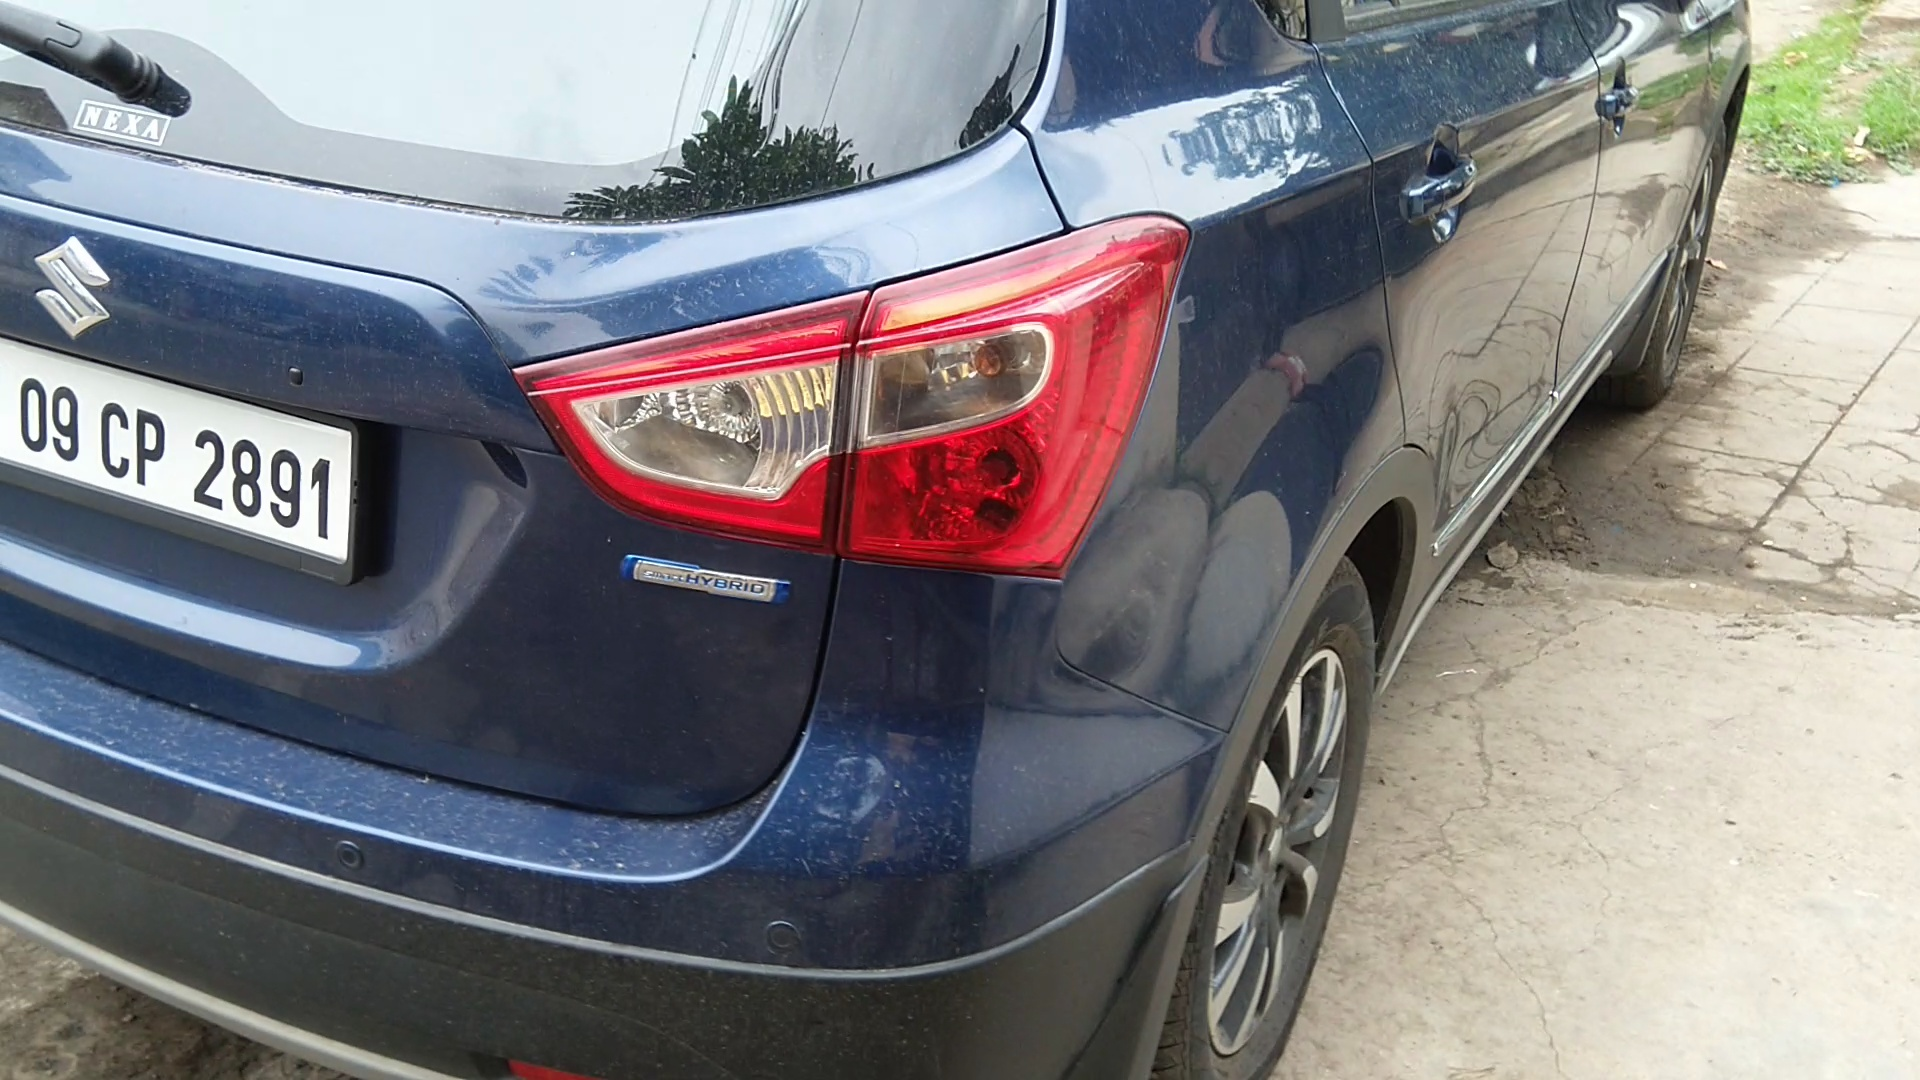alloy_wheel: (1154, 562, 1391, 1080)
shvs: (609, 527, 819, 637)
